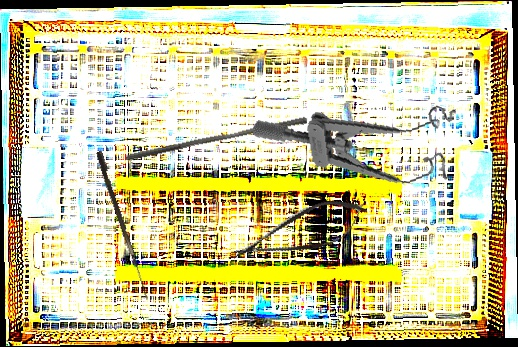Hook Surgical: (93, 150, 155, 301)
Micro Scissor: (225, 188, 374, 277)
Pusher: (124, 109, 309, 169)
Speculum: (249, 89, 470, 209)
